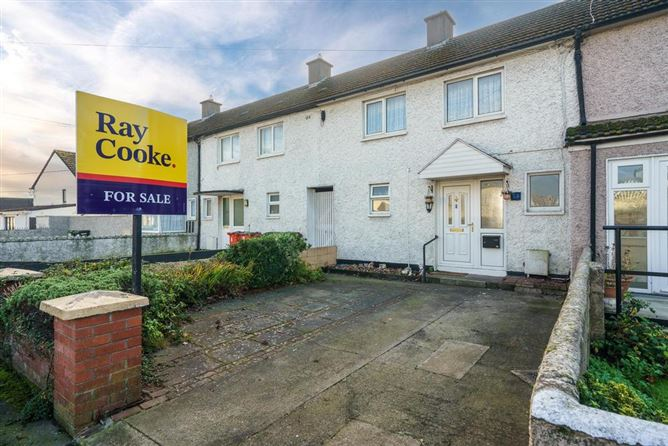property sign: (69, 81, 192, 224)
